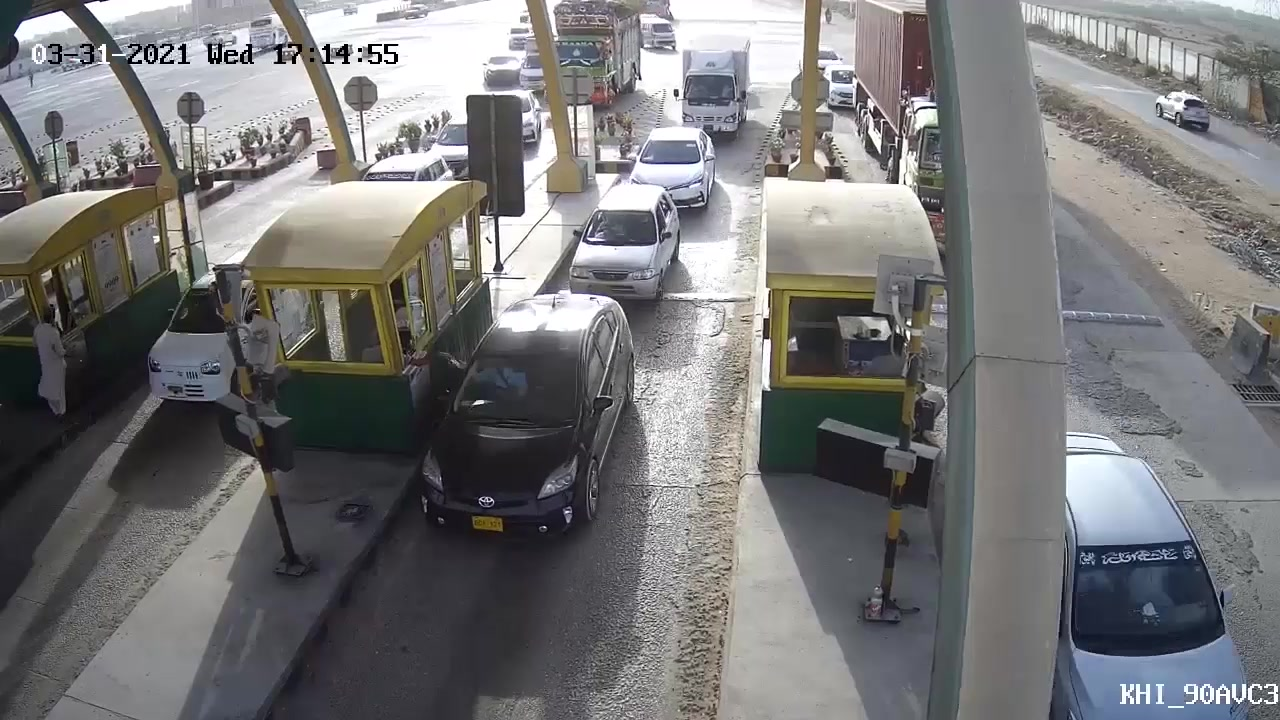F1: (409, 288, 638, 553), (564, 186, 681, 304), (628, 128, 720, 212)
